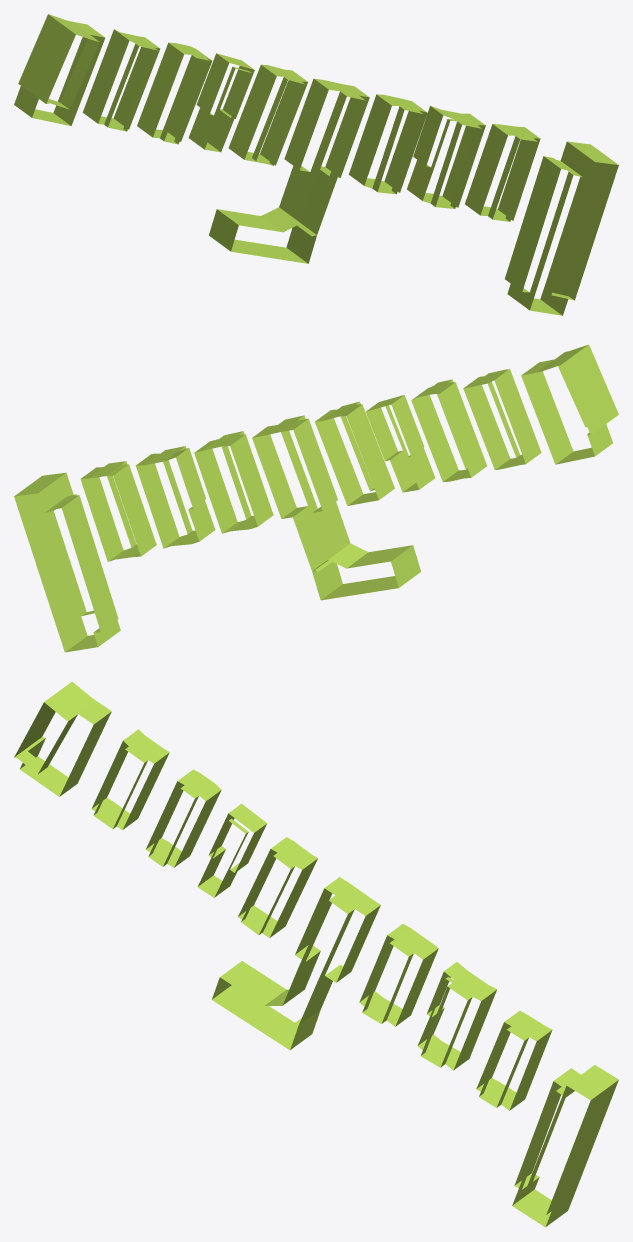
Rendered from Wall_Hini_4.0_Slope_1.0.obj.
3 views of the same model, one above another, from view 1: azimuth 30°, elevation 25°; view 2: azimuth 150°, elevation 25°; view 3: azimuth 330°, elevation 25° (orthographic).
Visible parts, largest first — view 1: 1, 6, 2, 5, 8, 4, 3, 10, 9, 7; view 2: 6, 1, 2, 8, 4, 3, 5, 10, 9, 7; view 3: 6, 1, 2, 5, 4, 3, 8, 10, 9, 7.
Boxes of the visible parts, box(x1,y1,x2,y2) form: 1: box(505, 141, 618, 315); 6: box(209, 78, 369, 263); 2: box(14, 14, 105, 125); 5: box(407, 106, 485, 208); 8: box(228, 64, 307, 165); 4: box(349, 94, 427, 194); 3: box(465, 124, 540, 221); 10: box(82, 29, 160, 131); 9: box(137, 42, 212, 144); 7: box(188, 53, 254, 152); 6: box(252, 415, 420, 600); 1: box(14, 472, 120, 652); 2: box(521, 344, 618, 464); 8: box(315, 401, 394, 505); 4: box(194, 431, 273, 533); 3: box(80, 461, 156, 561); 5: box(135, 446, 215, 548); 10: box(463, 369, 541, 469); 9: box(411, 379, 486, 481); 7: box(366, 395, 435, 492); 6: box(212, 877, 380, 1049); 1: box(512, 1065, 618, 1227); 2: box(14, 681, 111, 796); 5: box(417, 962, 496, 1070); 4: box(359, 924, 438, 1026); 3: box(476, 1011, 552, 1110); 8: box(238, 837, 317, 937); 10: box(91, 729, 169, 829); 9: box(146, 769, 221, 867); 7: box(198, 803, 266, 897).
Size of the model in its own units: 136 by 91 by 11.45.
